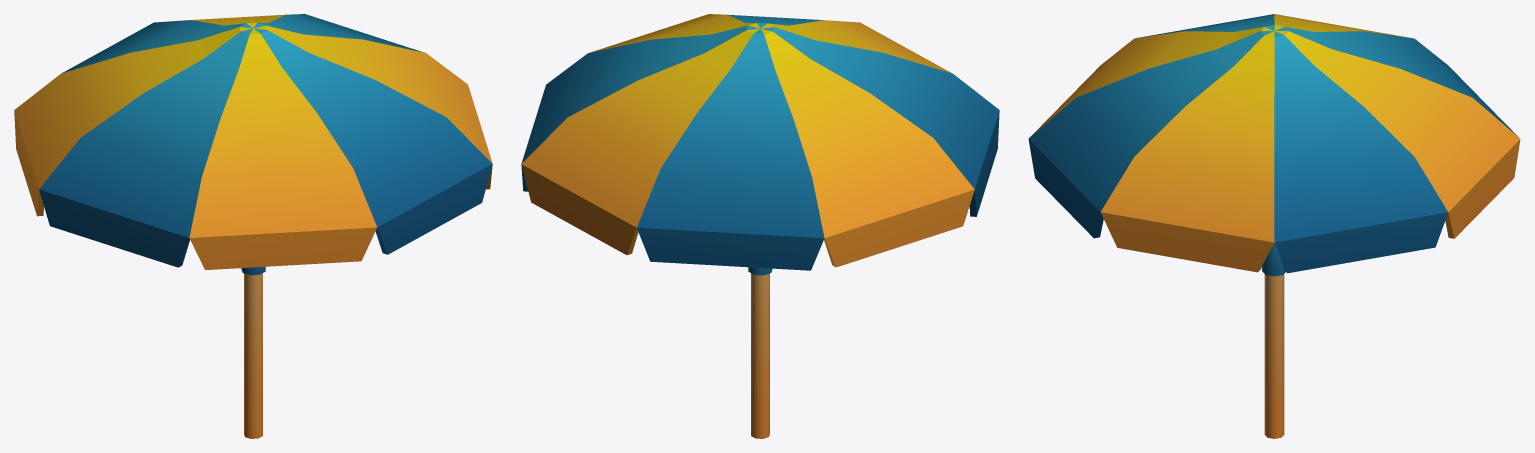
Rendered from ENV_Umbrella4.fbx.
3 views of the same model, side by side, from view 1: azimuth 30°, elevation 25°; view 2: azimuth 150°, elevation 25°; view 3: azimuth 270°, elevation 25° (orthographic).
Visible parts, largest first — view 1: ENV_Umbrella_4; view 2: ENV_Umbrella_4; view 3: ENV_Umbrella_4.
Part boxes in pixels (x1=…): ENV_Umbrella_4: x1=14, y1=14, x2=492, y2=438; ENV_Umbrella_4: x1=521, y1=14, x2=999, y2=438; ENV_Umbrella_4: x1=1028, y1=14, x2=1520, y2=438.
Size of the model in its own units: 360 by 326 by 360.
